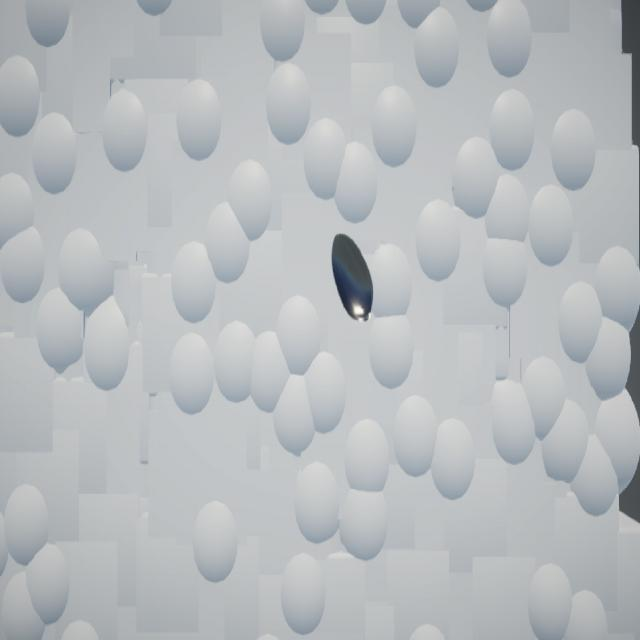top_spoon: (333, 234, 375, 323)
